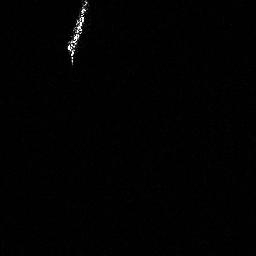ship: (63, 1, 91, 66)
